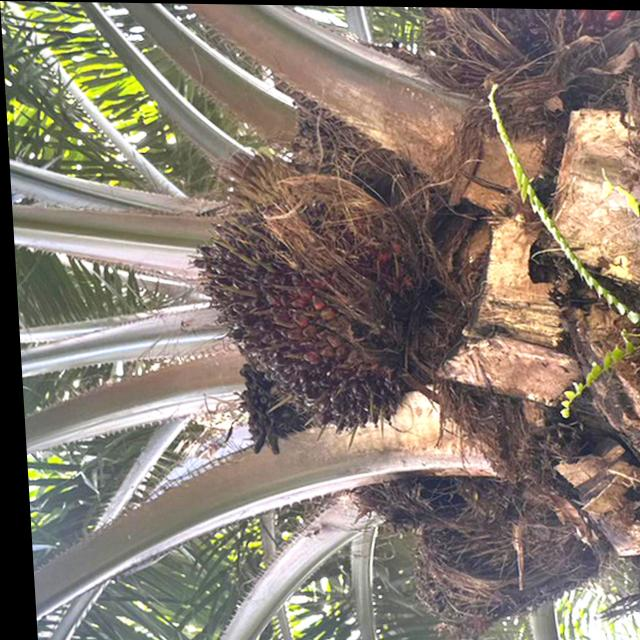ripe: (180, 169, 409, 437)
